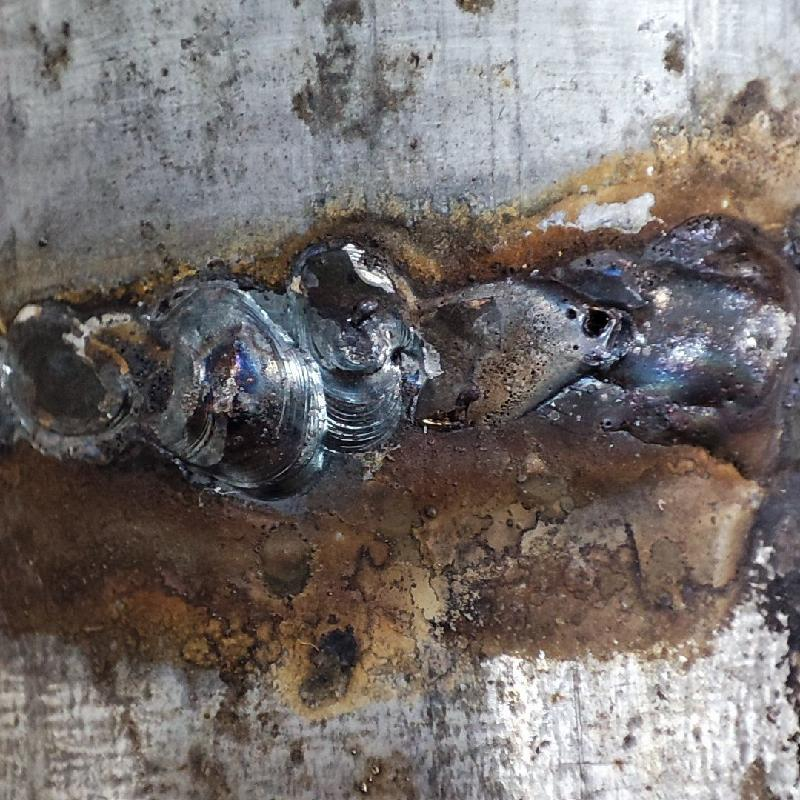Not_fully_soldered: (327, 237, 628, 440)
Surface_pores: (553, 294, 618, 359)
wrong_size: (2, 298, 324, 487)
